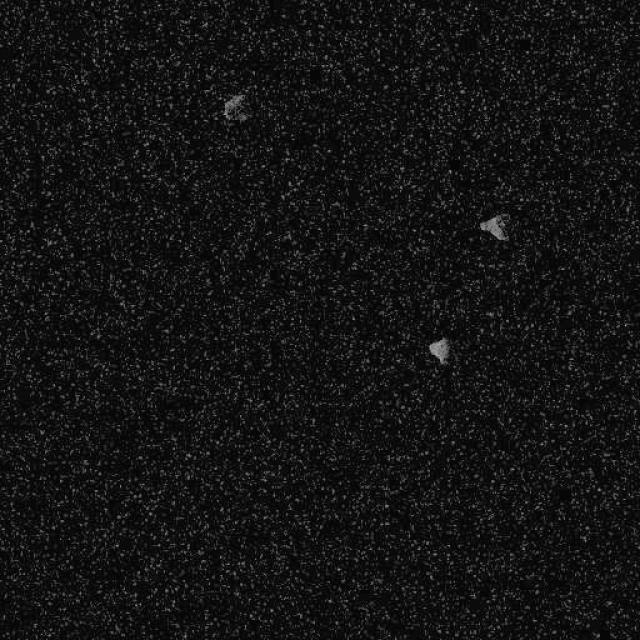D2: (478, 211, 510, 241), (221, 91, 250, 122), (426, 335, 450, 365)
